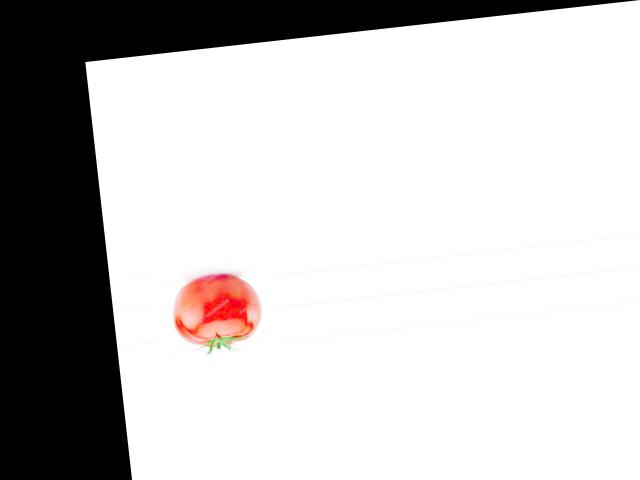tomato: (168, 272, 264, 350)
